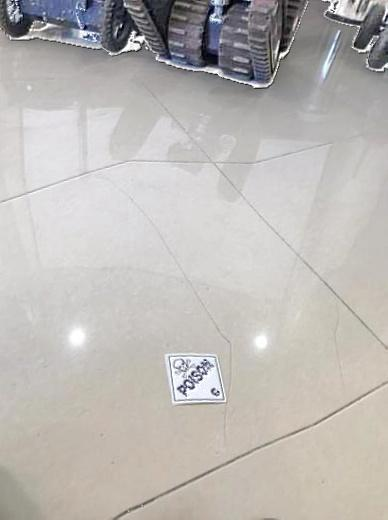poison: (166, 351, 227, 409)
